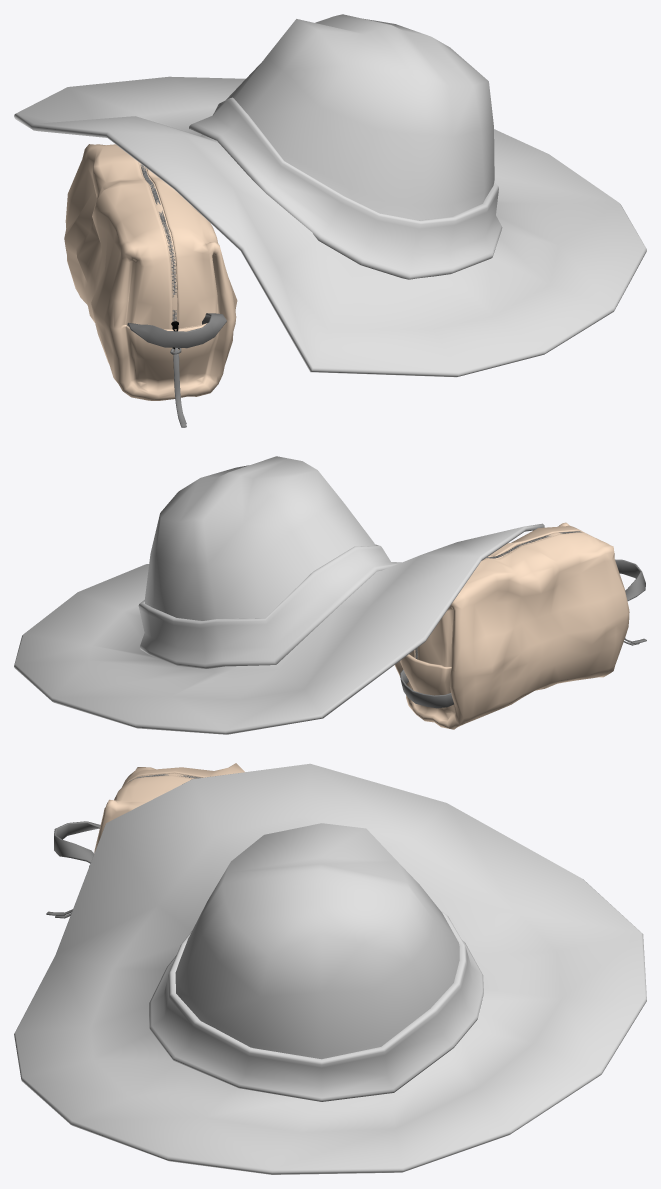
The model's file is capHat.glb.
The picture shows the model from 3 angles, top to bottom: view 1: azimuth 30°, elevation 25°; view 2: azimuth 150°, elevation 25°; view 3: azimuth 270°, elevation 25°; orthographic projection. The views are drawn at different scales.
Parts seen in each view (by area): view 1: Hat, Box667858, Object3039, Box667859; view 2: Hat, Box667858, Object3039; view 3: Hat, Box667858, Object3039.
Part boxes in pixels (<box>): Hat: <box>14,14,646,377</box>; Box667858: <box>64,144,237,400</box>; Object3039: <box>127,313,226,348</box>; Box667859: <box>140,164,176,329</box>; Hat: <box>14,456,544,734</box>; Box667858: <box>394,522,629,729</box>; Object3039: <box>400,559,645,708</box>; Hat: <box>14,763,646,1174</box>; Box667858: <box>94,763,244,852</box>; Object3039: <box>54,821,100,863</box>.
Size of the model in its own units: 0.4478 by 0.1725 by 0.4345.
